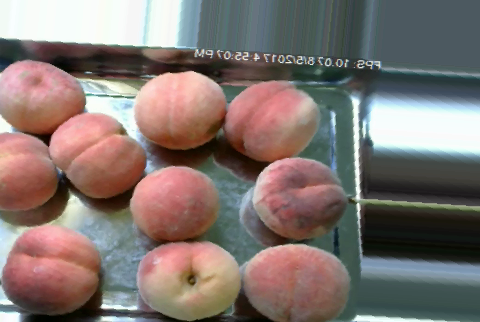Peach: (1, 225, 100, 315), (242, 241, 351, 321), (136, 239, 240, 320), (52, 112, 143, 199), (223, 79, 319, 161), (252, 157, 348, 239), (134, 69, 225, 150), (0, 58, 88, 134), (131, 166, 219, 242)
